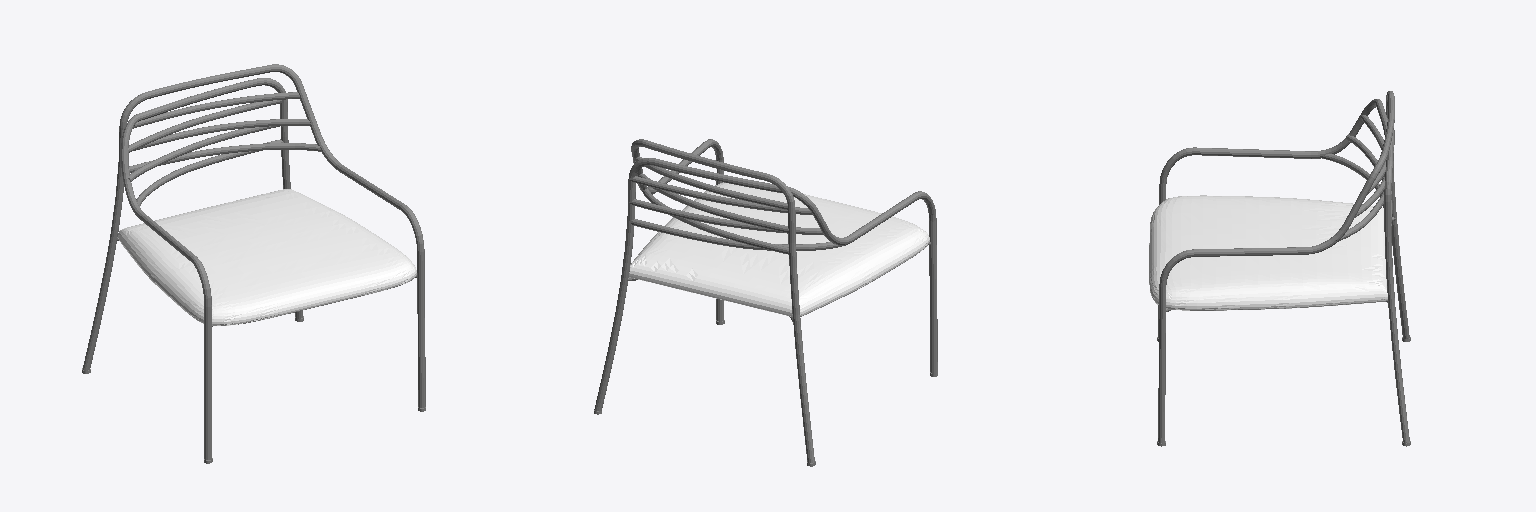
File: chair.obj
3 renders of one model, left to right at view 1: azimuth 30°, elevation 25°; view 2: azimuth 150°, elevation 25°; view 3: azimuth 270°, elevation 25°, orthographic.
Parts seen in each view (by area): view 1: z9h; view 2: z9h; view 3: z9h.
Part boxes in pixels (x1,y1,x2,y2): z9h: (82, 64, 425, 463); z9h: (594, 139, 937, 466); z9h: (1149, 91, 1410, 446).
Bounding box in the file's own units: 1.85 × 2.18 × 1.89.